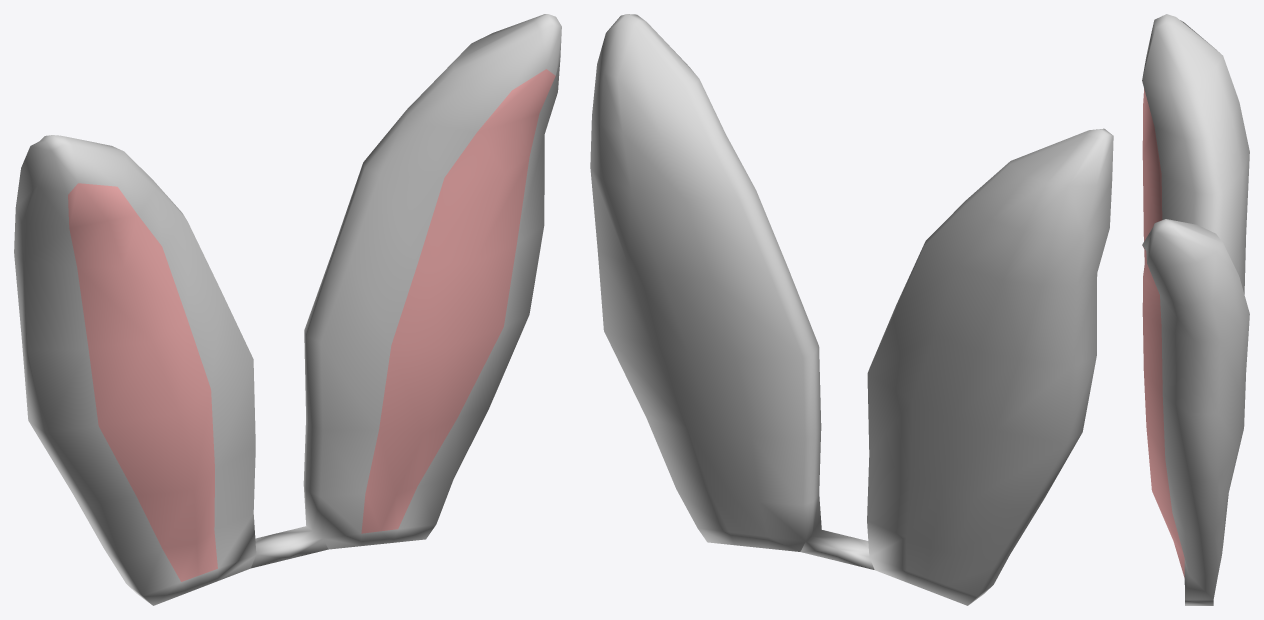
File: NOVELO_RABBITEARS.obj
3 renders of one model, left to right at view 1: azimuth 30°, elevation 25°; view 2: azimuth 150°, elevation 25°; view 3: azimuth 270°, elevation 25°, orthographic. The views are drawn at different scales.
Visible parts, largest first — view 1: Symmetry.1; view 2: Symmetry.1; view 3: Symmetry.1.
Boxes of the visible parts, box(x1,y1,x2,y2) form: Symmetry.1: box(14, 14, 561, 605); Symmetry.1: box(590, 14, 1113, 605); Symmetry.1: box(1142, 14, 1249, 605).
Size of the model in its own units: 184 by 166 by 37.62.
